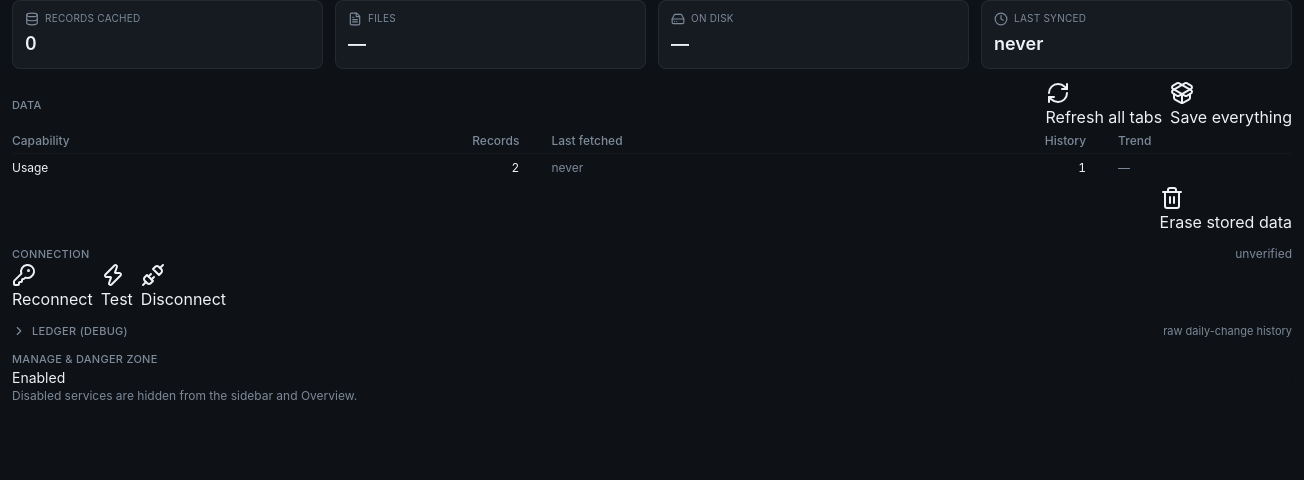
a capability whose ledger loaded empty shows the no-data message
This screenshot has width=1304, height=480.
Click the button "Ledger (debug) raw daily-change history" at {"x": 80, "y": 330}, box left=12, top=322, right=1292, bottom=339
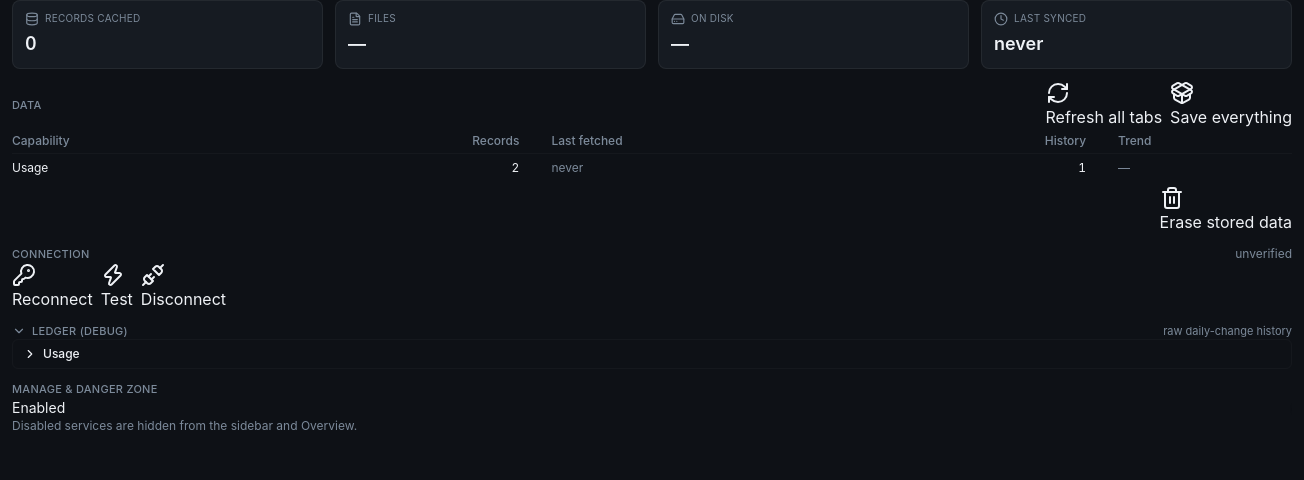
Click the button "Usage" at {"x": 61, "y": 354}, box left=13, top=340, right=1291, bottom=368
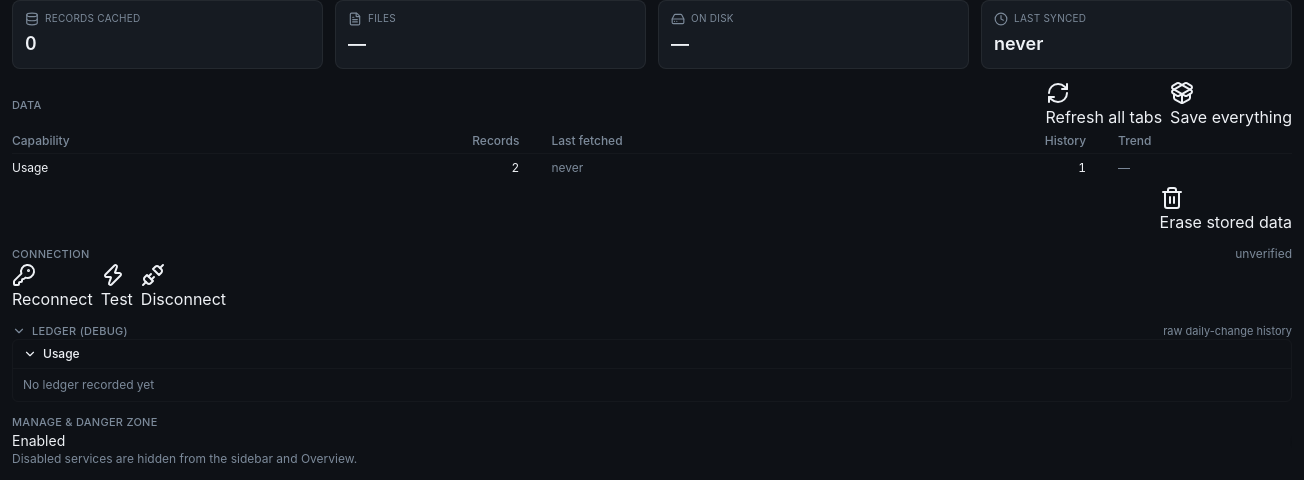
expect the text "No ledger recorded yet" is shown: met, box left=23, top=377, right=154, bottom=392
